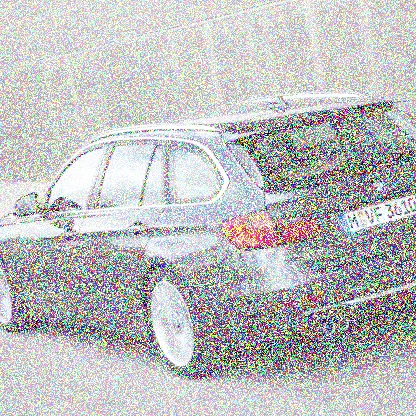Vehicle: (1, 92, 415, 383)
